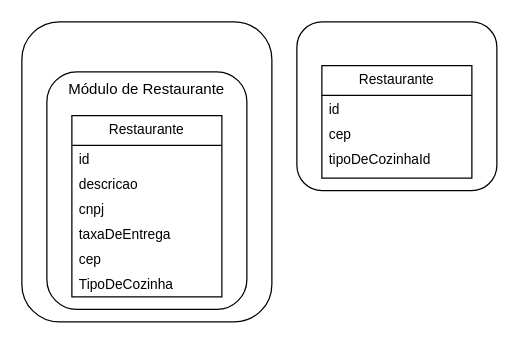
The diagram is 519 pixels wide and 344 high, and some of its shapes have lost their labels. The shapes that lost their labels are listed below. From the top down, each one's box as (x1, y1, x2, y2) in pixels, then its label:
(296, 21, 497, 191): Serviço de Distância
(21, 21, 272, 322): Monólito
